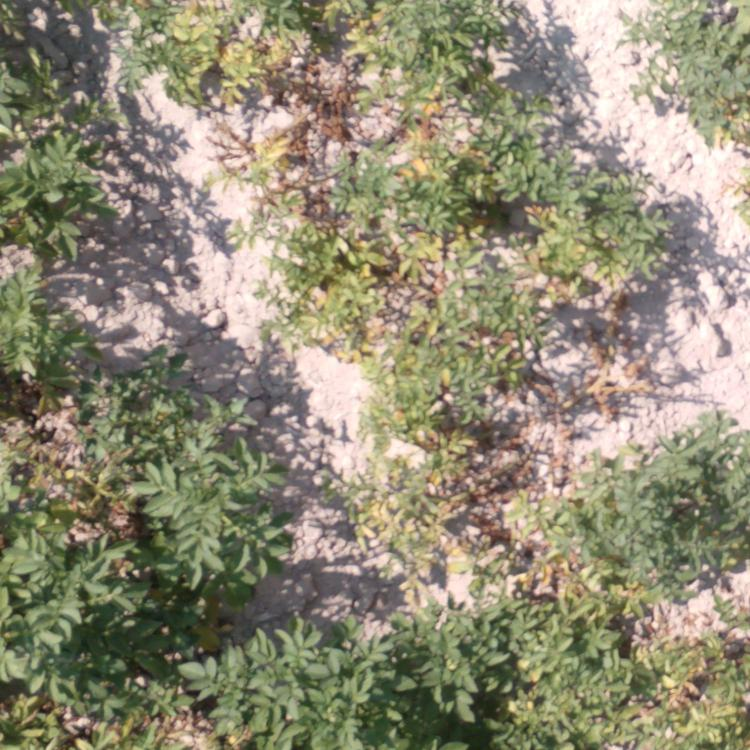healthy: (180, 619, 430, 747), (8, 513, 135, 744), (579, 433, 731, 592), (12, 1, 106, 249), (96, 354, 255, 471), (446, 616, 556, 749), (144, 483, 257, 611), (639, 5, 743, 132), (1, 289, 80, 408)
stressed: (332, 446, 557, 594), (414, 248, 546, 450), (578, 596, 747, 745), (114, 1, 321, 110), (255, 206, 393, 342), (335, 4, 515, 107), (197, 116, 416, 196), (557, 163, 665, 319), (419, 119, 538, 230), (1, 424, 86, 500)
